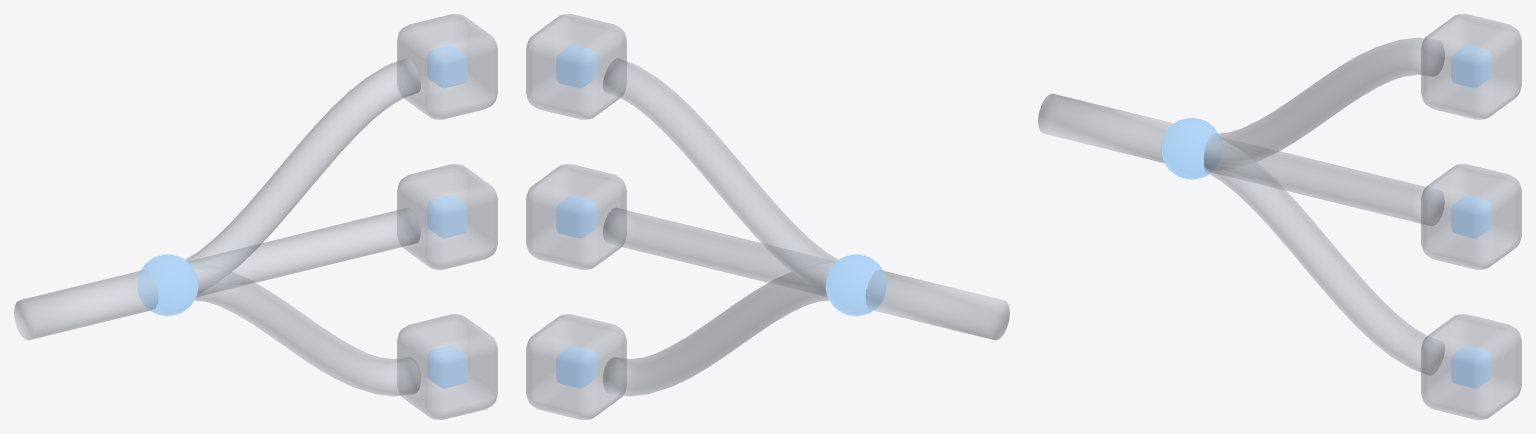
The model's file is aiguilleur.glb.
The picture shows the model from 3 angles, left to right: view 1: azimuth 30°, elevation 25°; view 2: azimuth 150°, elevation 25°; view 3: azimuth 330°, elevation 25°; orthographic projection.
Parts seen in each view (by area): view 1: branche0, boite0, boite1, boite2, branche2, branche1, entree, message, tri0, tri2, tri1; view 2: branche0, boite0, boite1, boite2, branche2, branche1, entree, message, tri0, tri2, tri1; view 3: branche2, branche0, branche1, boite1, boite0, boite2, entree, message, tri0, tri2, tri1.
Boxes of the visible parts, bbox=[...] form: branche0: bbox=[185, 58, 420, 293]; boite0: bbox=[397, 14, 497, 119]; boite1: bbox=[397, 164, 497, 269]; boite2: bbox=[397, 314, 497, 419]; branche2: bbox=[190, 263, 420, 396]; branche1: bbox=[188, 207, 420, 296]; entree: bbox=[14, 270, 157, 340]; message: bbox=[137, 254, 198, 315]; tri0: bbox=[427, 45, 467, 88]; tri2: bbox=[427, 345, 467, 388]; tri1: bbox=[427, 195, 467, 238]; branche0: bbox=[603, 58, 838, 293]; boite0: bbox=[526, 14, 626, 119]; boite1: bbox=[526, 164, 626, 269]; boite2: bbox=[526, 314, 626, 419]; branche2: bbox=[603, 263, 833, 396]; branche1: bbox=[603, 207, 835, 296]; entree: bbox=[866, 270, 1009, 340]; message: bbox=[825, 254, 886, 315]; tri0: bbox=[556, 45, 596, 88]; tri2: bbox=[556, 345, 596, 388]; tri1: bbox=[556, 195, 596, 238]; branche2: bbox=[1204, 139, 1444, 375]; branche0: bbox=[1204, 37, 1444, 170]; branche1: bbox=[1204, 136, 1444, 225]; boite1: bbox=[1421, 164, 1521, 269]; boite0: bbox=[1421, 14, 1521, 119]; boite2: bbox=[1421, 314, 1521, 419]; entree: bbox=[1038, 93, 1173, 163]; message: bbox=[1161, 118, 1222, 179]; tri0: bbox=[1451, 45, 1491, 88]; tri2: bbox=[1451, 345, 1491, 388]; tri1: bbox=[1451, 195, 1491, 238].
Bounding box in the file's own units: 1.28 × 1 × 0.2.
